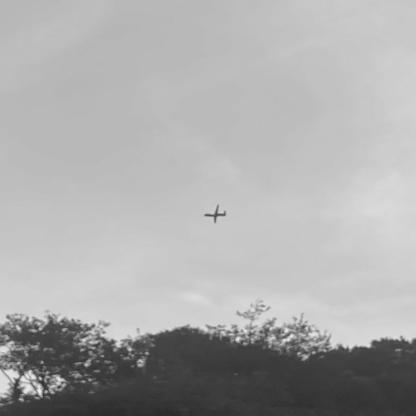RQ4: (204, 205, 228, 225)
